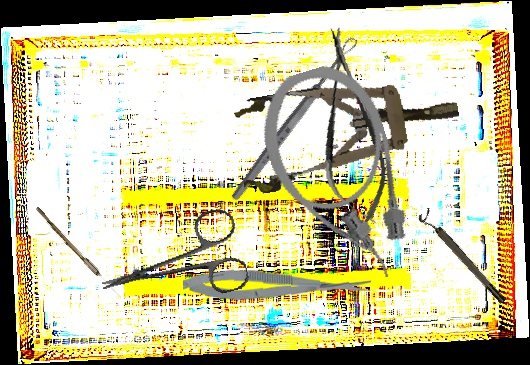Cannula: (248, 54, 426, 300)
Fixation Ring: (416, 207, 508, 309)
Iris Scissors: (90, 205, 252, 324)
Micro Scissor: (307, 23, 395, 234), (182, 267, 372, 306)
Speculum: (229, 63, 467, 197)
Surgical Spoon: (228, 34, 361, 204), (33, 206, 124, 300)
